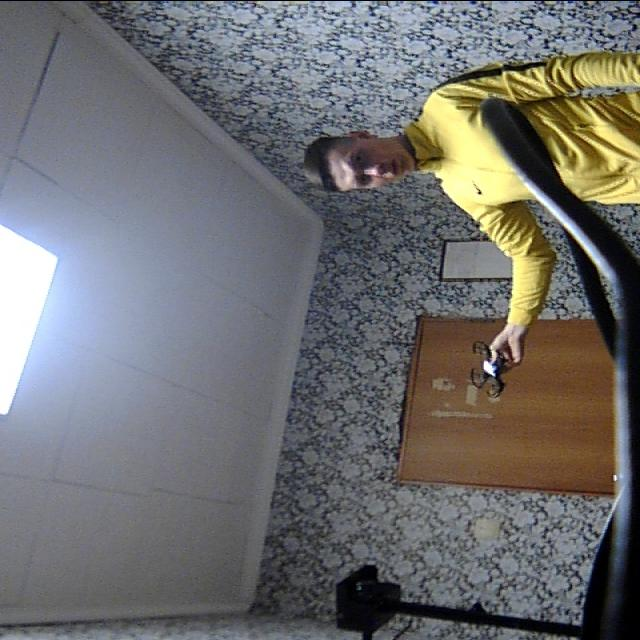drone: (459, 337, 517, 402)
